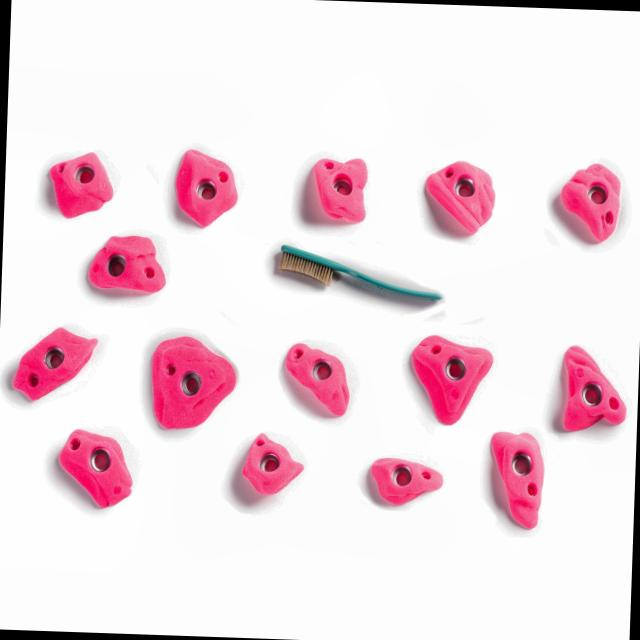Hold: (138, 325, 251, 432), (400, 331, 498, 424), (49, 424, 144, 518), (6, 331, 115, 408), (480, 426, 554, 530), (564, 328, 629, 439), (168, 148, 242, 242), (272, 340, 354, 423), (424, 154, 496, 242), (34, 152, 122, 218), (80, 226, 164, 292), (304, 152, 378, 225), (366, 454, 454, 510), (554, 157, 618, 231), (238, 434, 312, 498)
